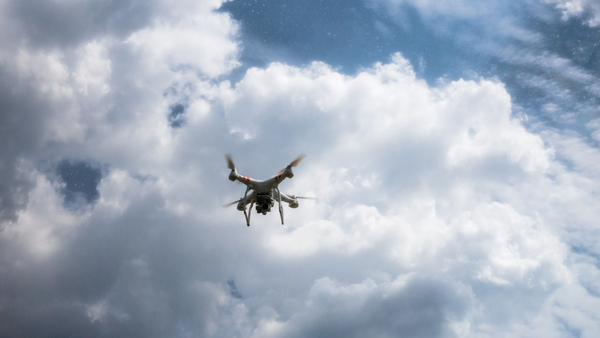drone: (216, 152, 323, 229)
